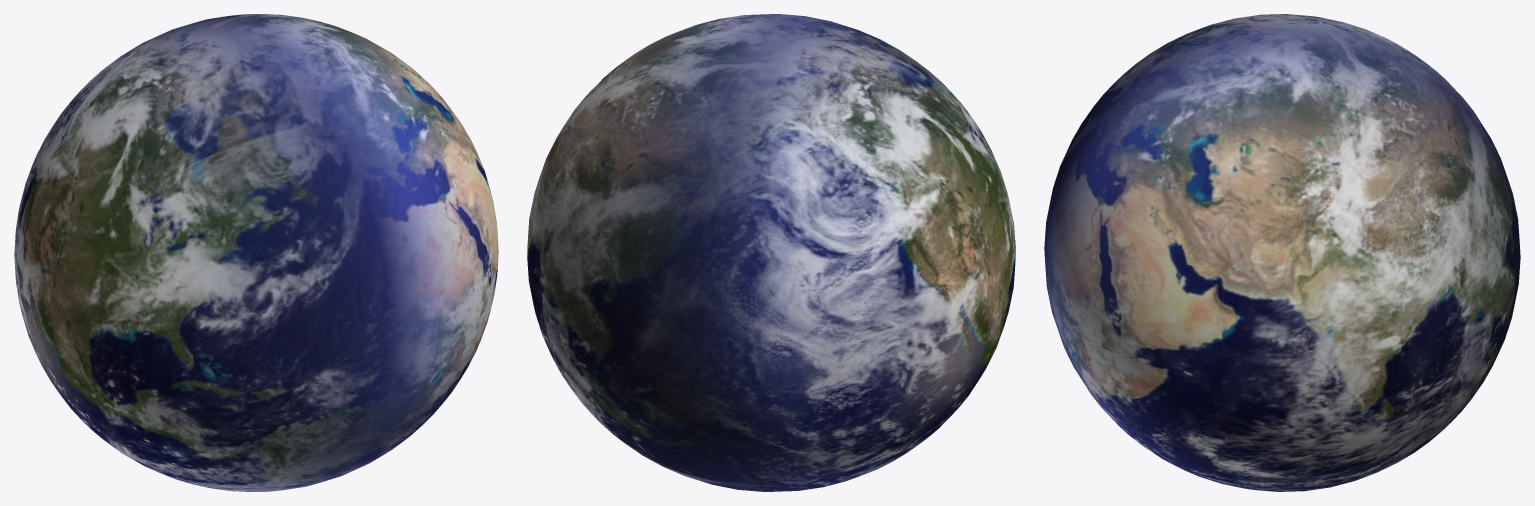
File: bumi.glb
3 renders of one model, left to right at view 1: azimuth 30°, elevation 25°; view 2: azimuth 150°, elevation 25°; view 3: azimuth 270°, elevation 25°, orthographic.
Parts seen in each view (by area): view 1: Object_5; view 2: Object_5; view 3: Object_5.
Part boxes in pixels (x1,y1,x2,y2): Object_5: (14,14,498,491); Object_5: (527,14,1015,491); Object_5: (1044,14,1520,491).
Size of the model in its own units: 0.6951 by 0.6798 by 0.6797.
1 material, 1 textured.
